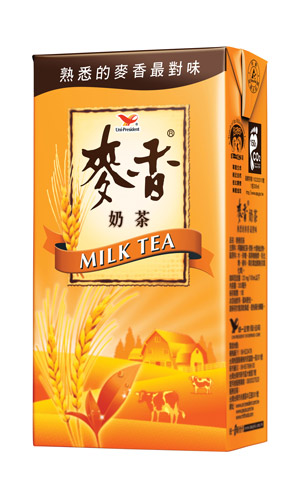milk tea: (35, 49, 268, 450)
